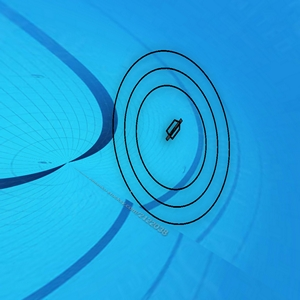circle: (105, 45, 230, 228)
submarine: (161, 117, 183, 151), (164, 118, 184, 141)
